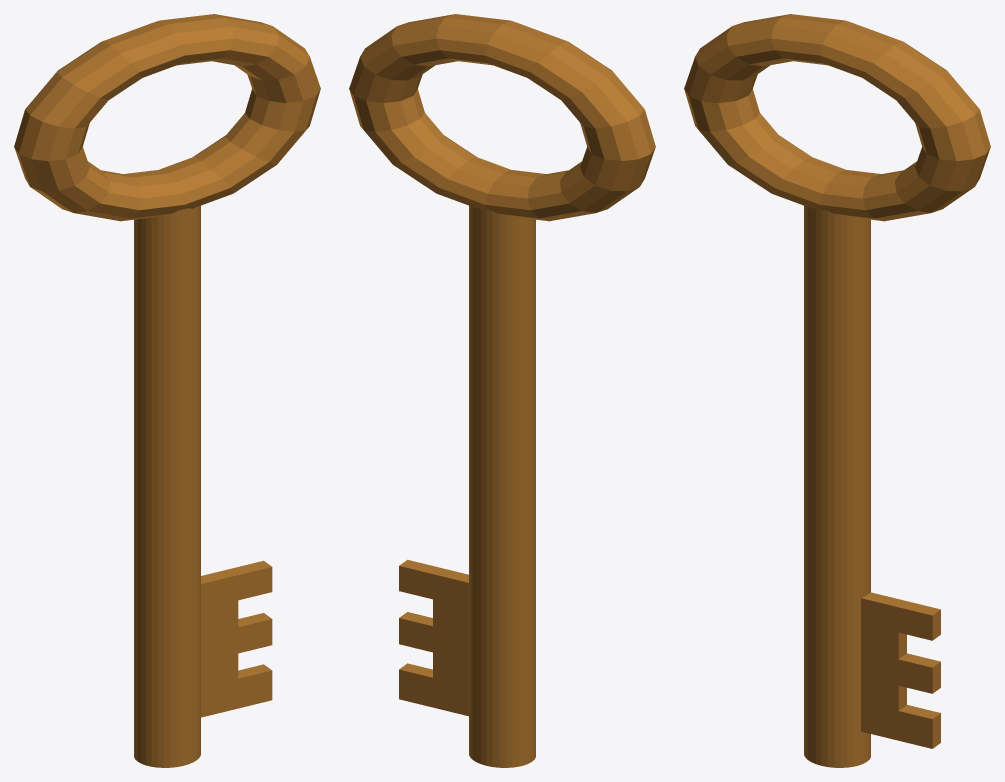
Rendered from BronzeKey.fbx.
The picture shows the model from 3 angles, left to right: view 1: azimuth 30°, elevation 25°; view 2: azimuth 150°, elevation 25°; view 3: azimuth 330°, elevation 25°; orthographic projection.
Visible parts, largest first — view 1: Cylinder, Torus, Plane; view 2: Cylinder, Torus, Plane; view 3: Cylinder, Torus, Plane.
Part boxes in pixels (x1,y1,x2,y2): Cylinder: (134, 205, 200, 767); Torus: (14, 14, 320, 221); Plane: (201, 560, 272, 717); Cylinder: (469, 205, 535, 767); Torus: (349, 14, 655, 221); Plane: (399, 559, 468, 716); Cylinder: (804, 205, 870, 767); Torus: (684, 14, 990, 221); Plane: (861, 592, 940, 748).
Bounding box in the file's own units: 53.4 × 125 × 10.68.
